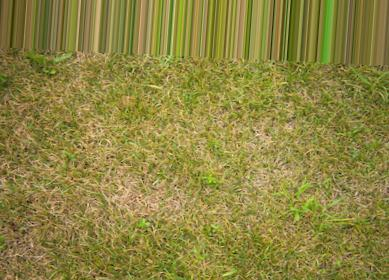patch: (97, 164, 192, 225), (29, 90, 105, 159), (219, 110, 286, 178)
